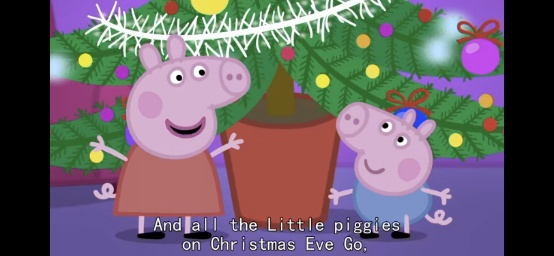Peppa: (85, 32, 246, 241)
